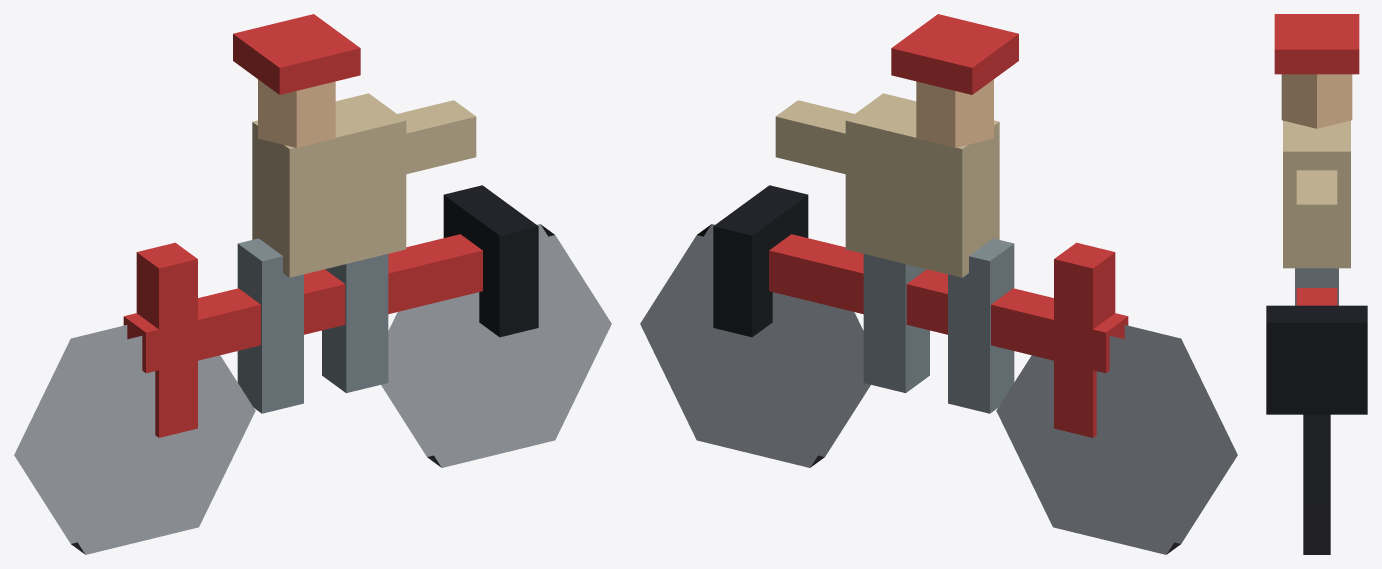
File: cyclist.glb
3 views of the same model, side by side, from view 1: azimuth 30°, elevation 25°; view 2: azimuth 150°, elevation 25°; view 3: azimuth 270°, elevation 25° (orthographic). The views are drawn at different scales.
Parts seen in each view (by area): view 1: cyclist; view 2: cyclist; view 3: cyclist.
Part boxes in pixels (x1=…): cyclist: x1=14, y1=14, x2=611, y2=554; cyclist: x1=640, y1=14, x2=1237, y2=554; cyclist: x1=1266, y1=14, x2=1367, y2=554.
Size of the model in its own units: 0.18 by 0.1343 by 0.03.
